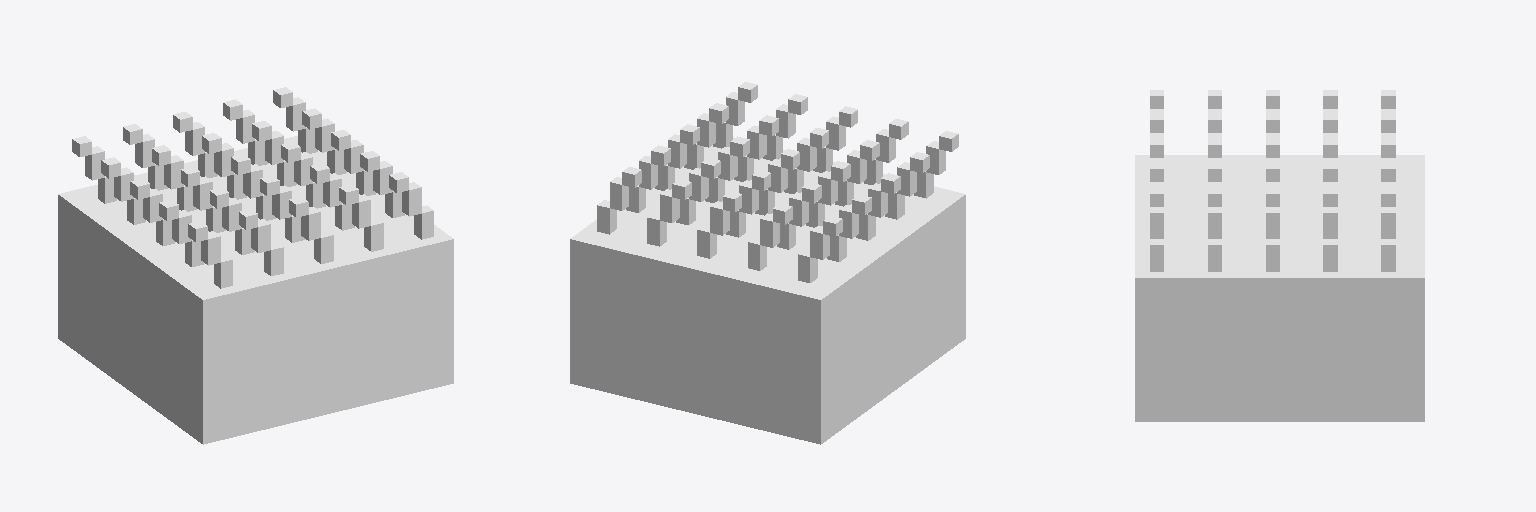
The model's file is Wheat_Level_3.obj.
The picture shows the model from 3 angles: view 1: azimuth 30°, elevation 25°; view 2: azimuth 150°, elevation 25°; view 3: azimuth 270°, elevation 25°; orthographic projection.
Parts seen in each view (by area): view 1: Wheat_Level_3; view 2: Wheat_Level_3; view 3: Wheat_Level_3.
Part boxes in pixels (left/top/right/bottom): Wheat_Level_3: left=58, top=87, right=453, bottom=444; Wheat_Level_3: left=570, top=82, right=965, bottom=444; Wheat_Level_3: left=1135, top=90, right=1424, bottom=421.
Size of the model in its own units: 20 by 16 by 20.